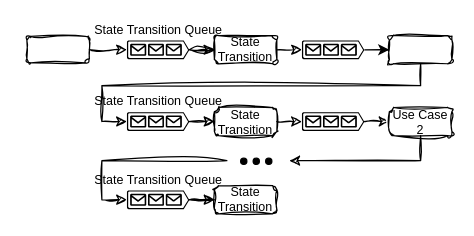
This 474x236 diagram has some shape labels left out. Each missing label, with the box of its shape:
Application API: (26, 35, 89, 63)
Queue 1: (301, 40, 364, 58)
Queue 2: (301, 112, 364, 130)
Use Case 1: (388, 34, 452, 64)
